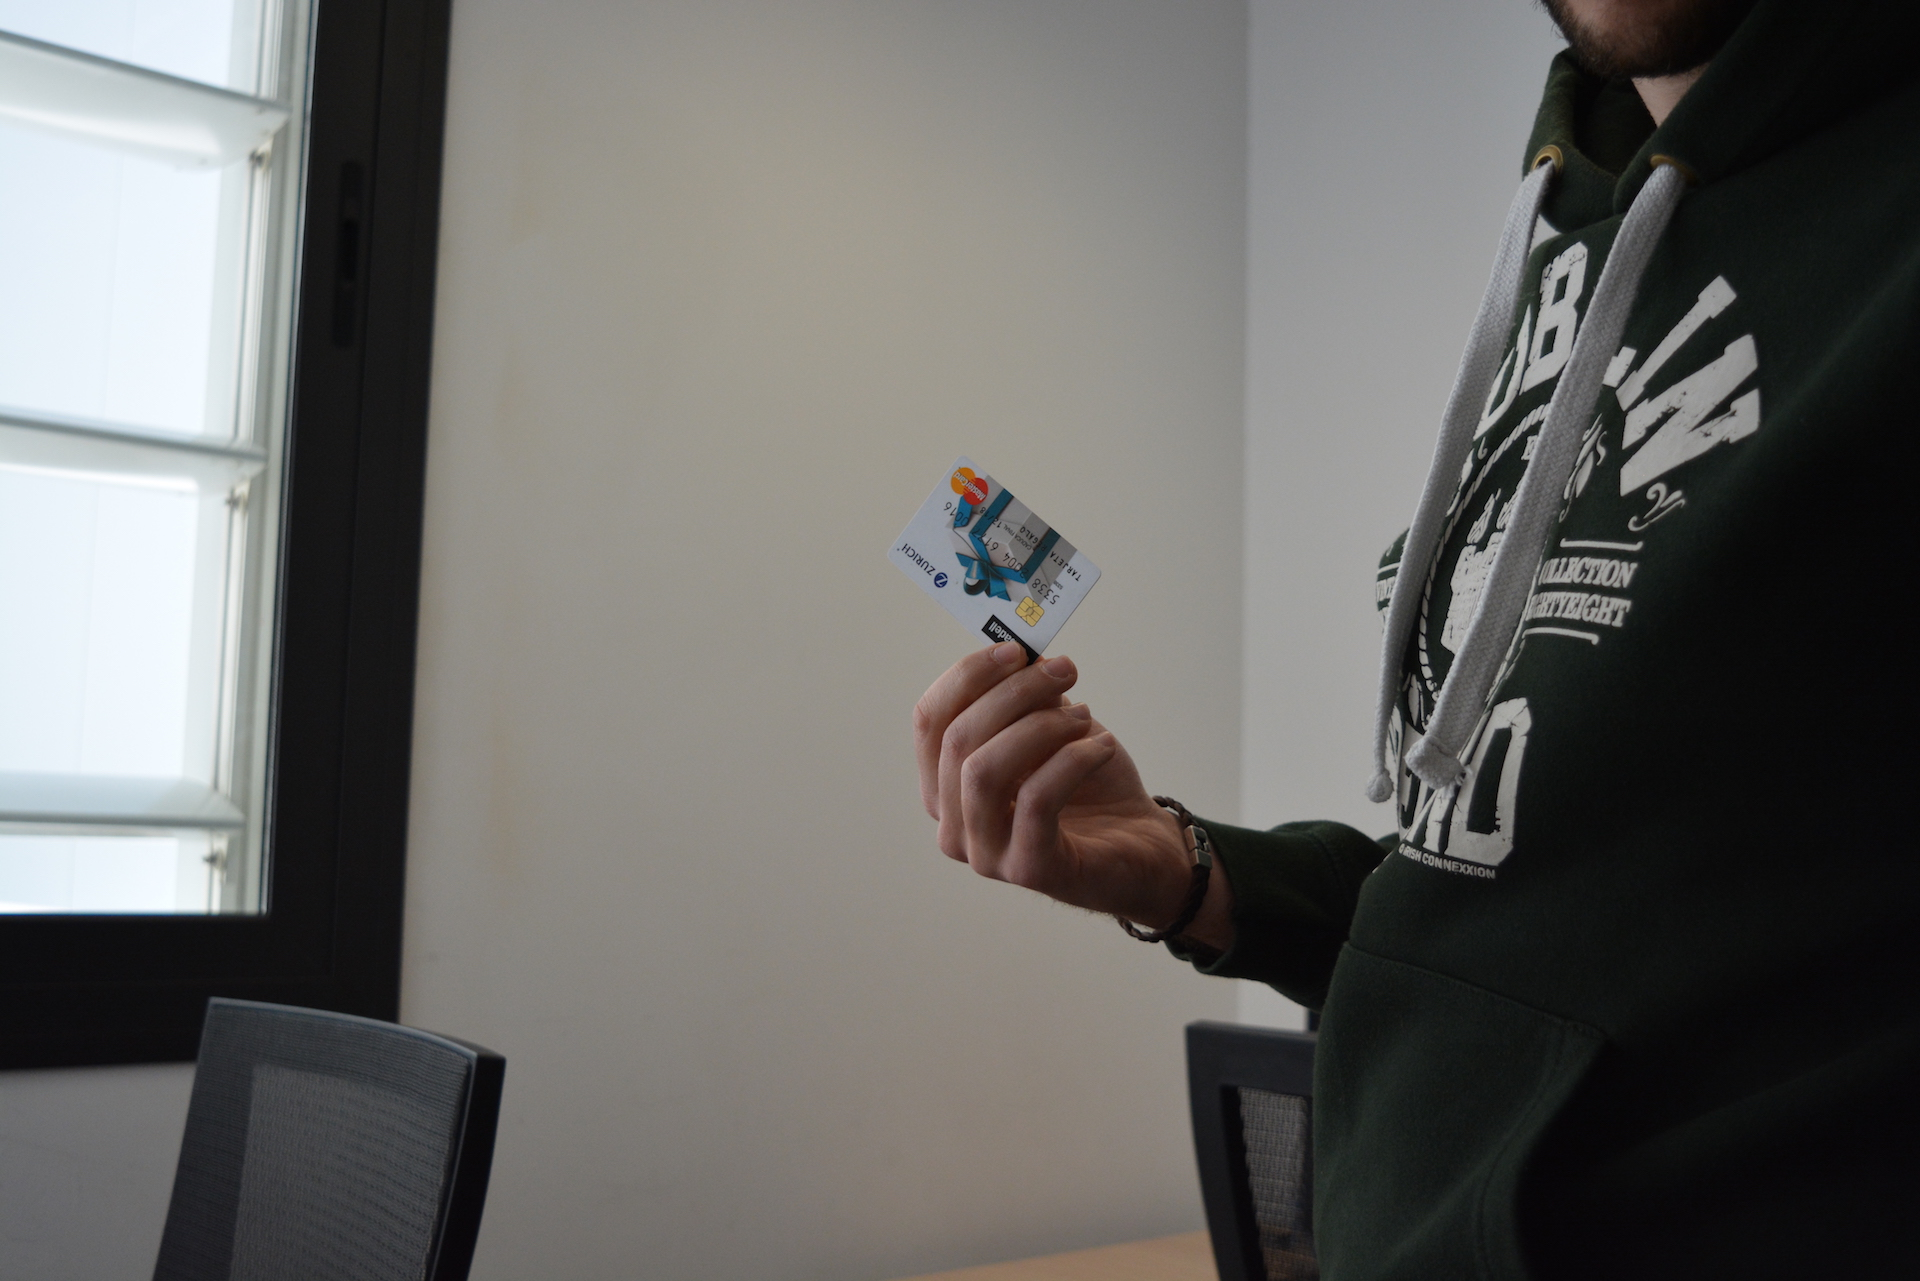tarjeta: (886, 455, 1104, 668)
